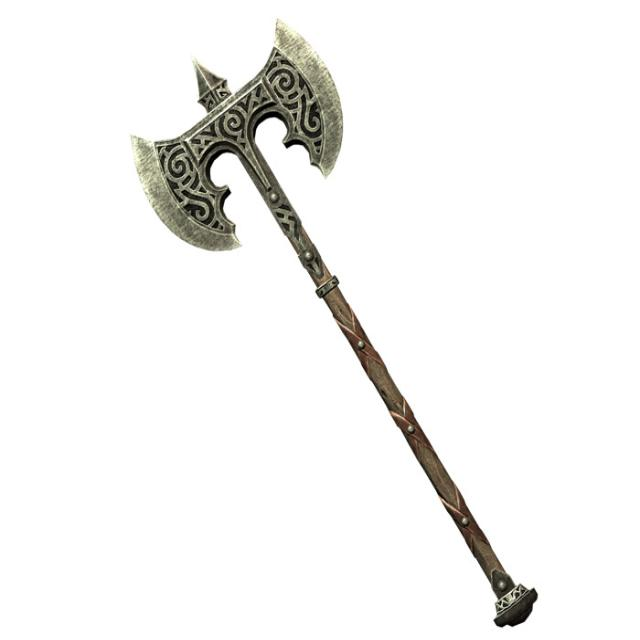Gun: (98, 15, 556, 633)
